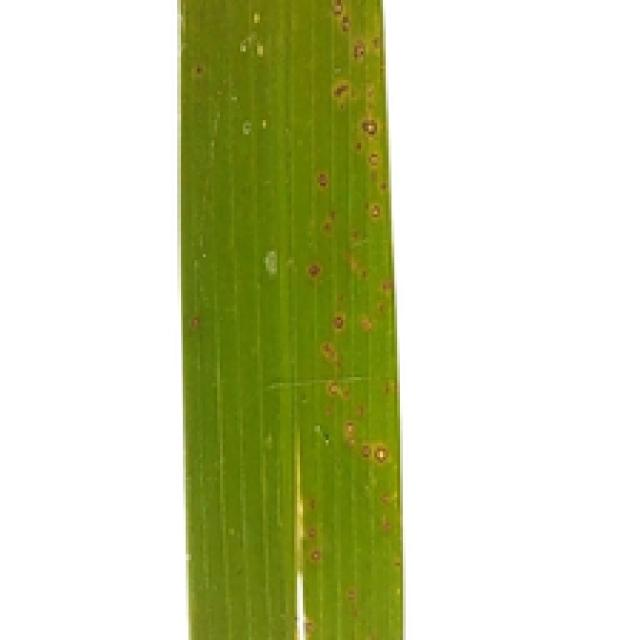Rice___Brown_Spot: (179, 0, 403, 637)
